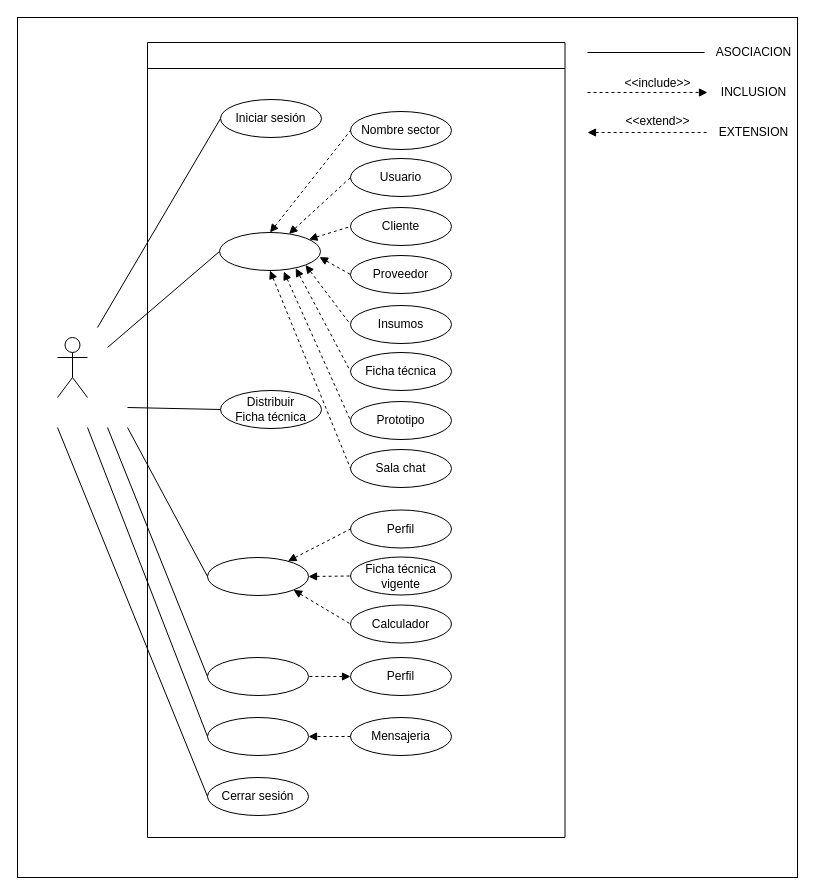
Image size: 816x895. Some labels were removed from this diagram. The shapes that lost their labels are listed below. From the top down, each one's box as (x1, y1, x2, y2) in pixels, then its label:
(218, 232, 320, 270): CRUD
(56, 336, 88, 398): Administrador
(146, 42, 565, 838): Fabrica Textil
(206, 556, 308, 596): Consultar
(206, 656, 308, 696): Editar
(206, 716, 308, 756): Interactuar
